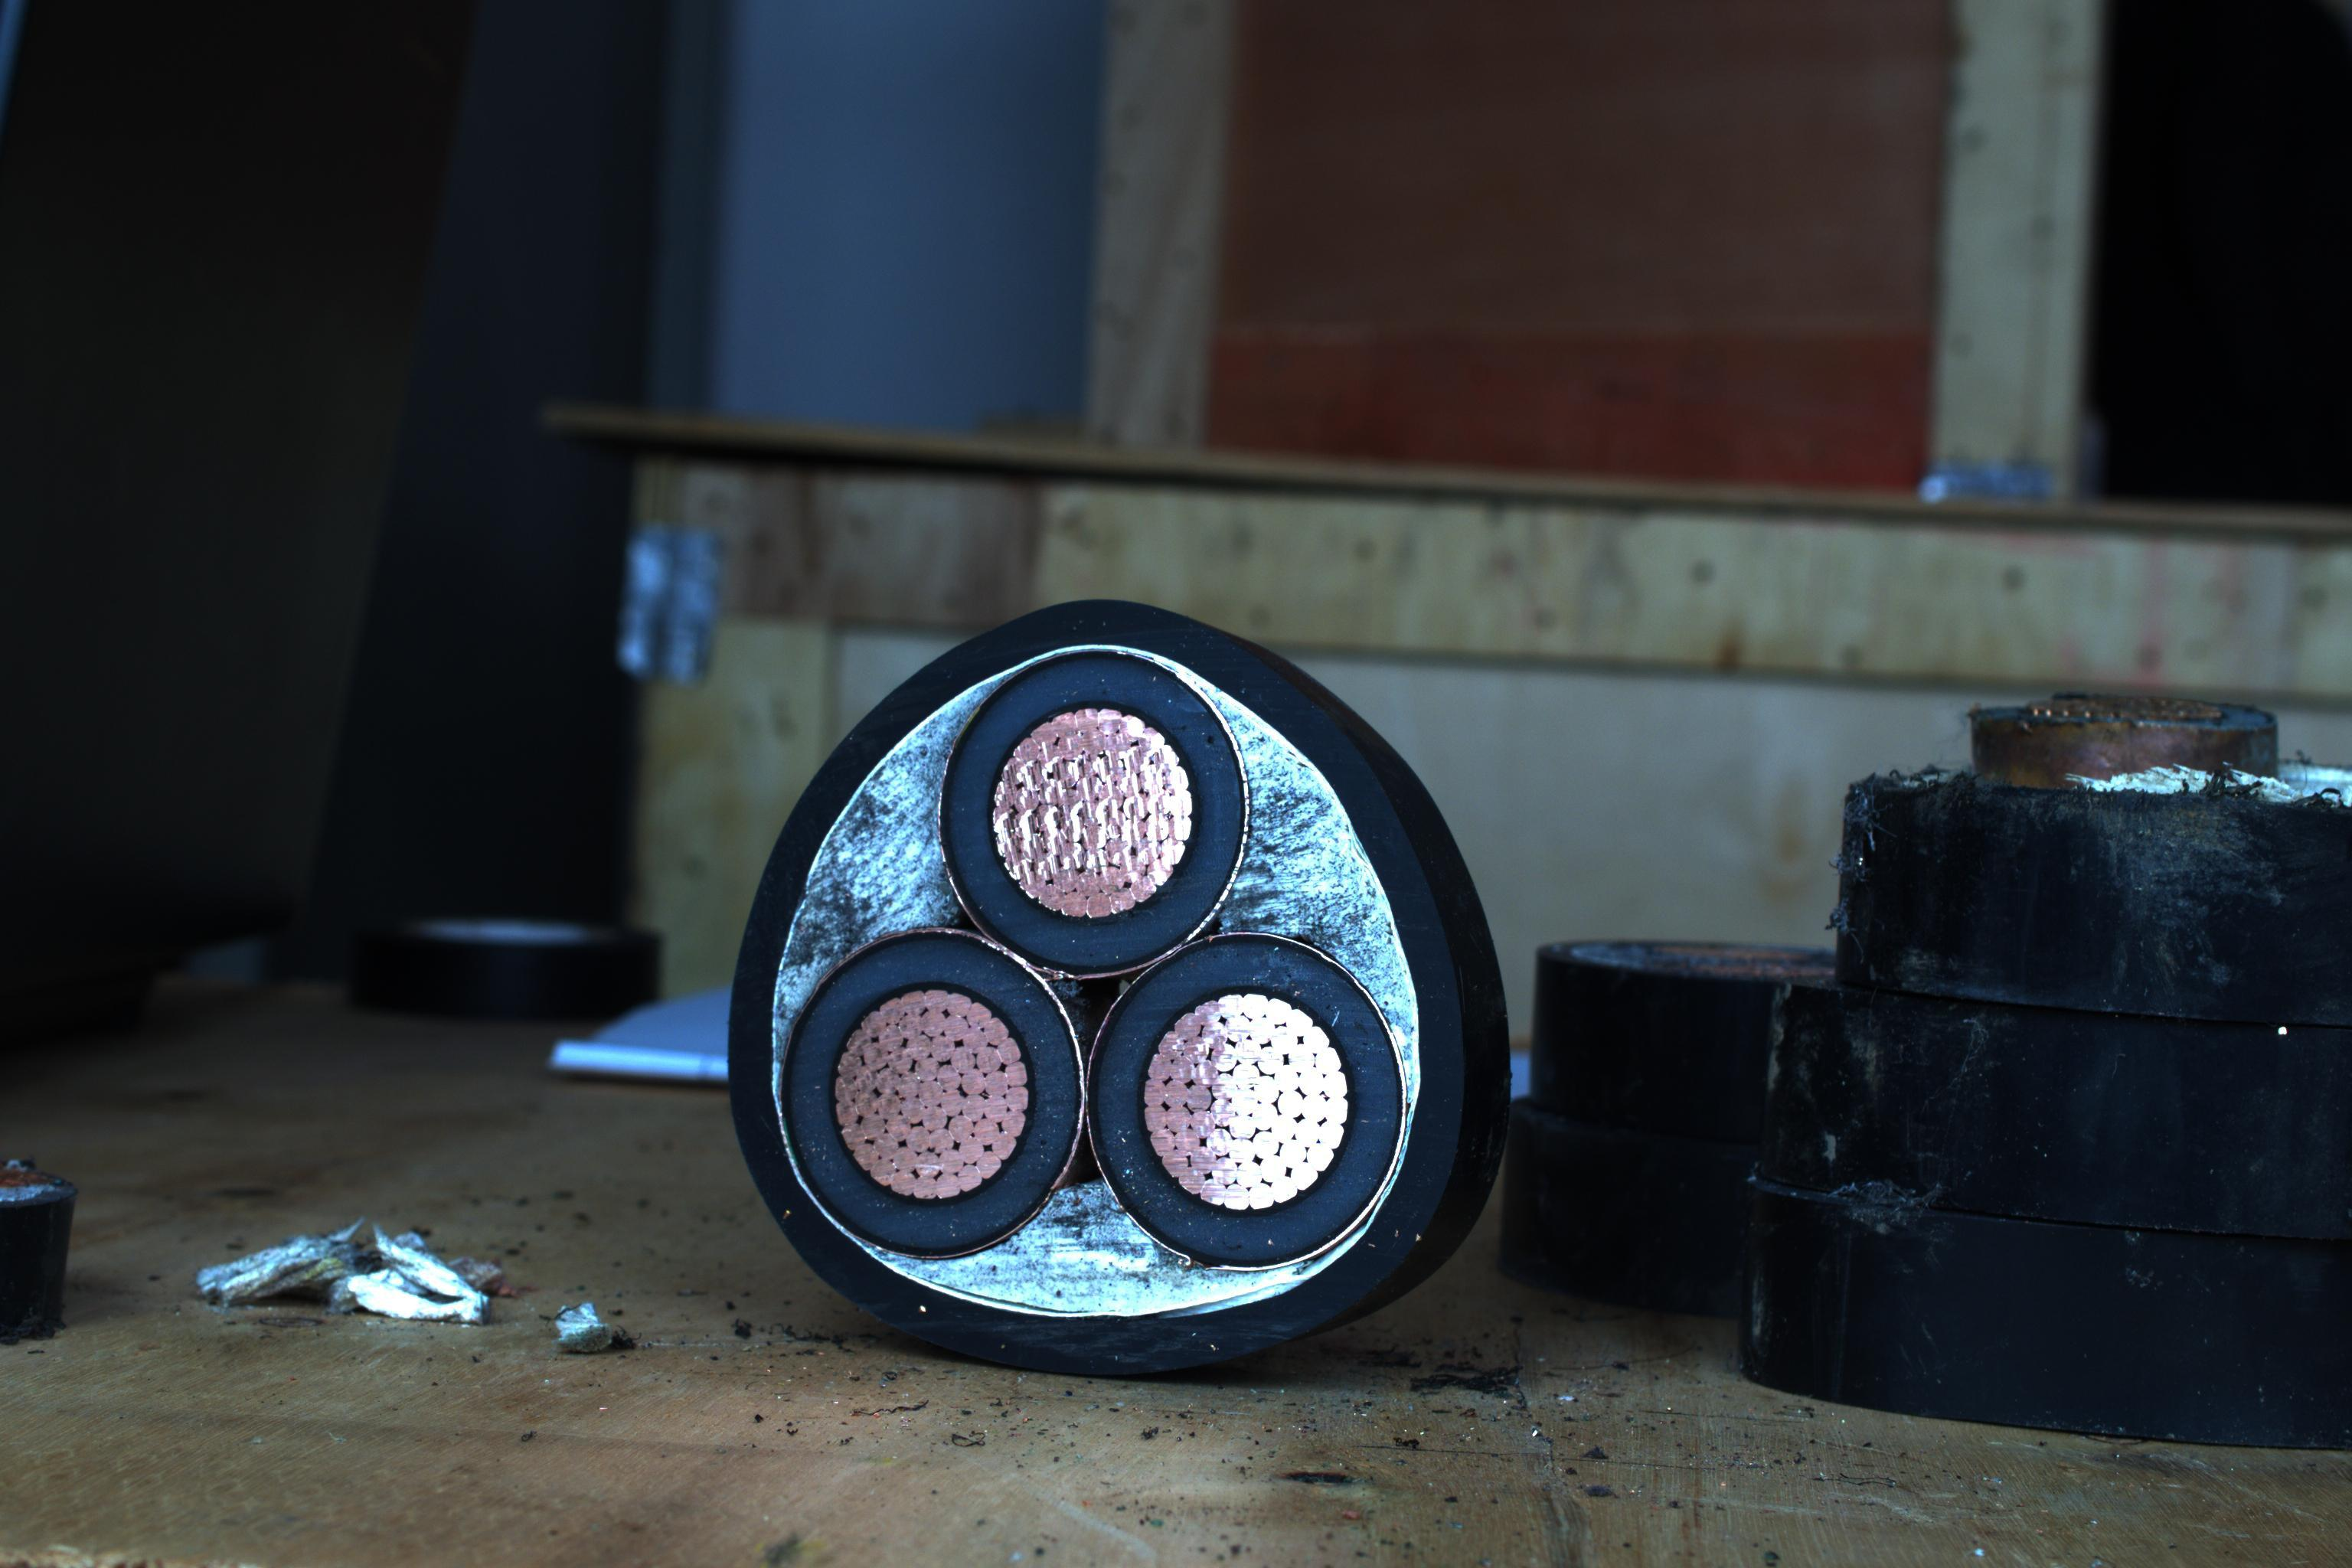ZA_YJV_8.7_10kV_3x400: (735, 605, 1514, 1363)
